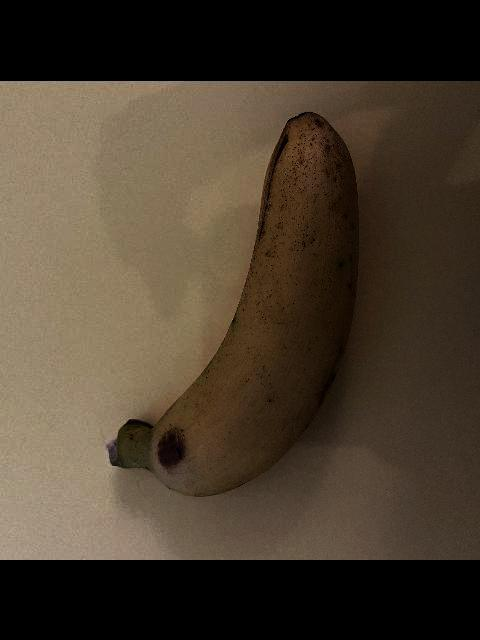banana: (107, 109, 363, 497)
